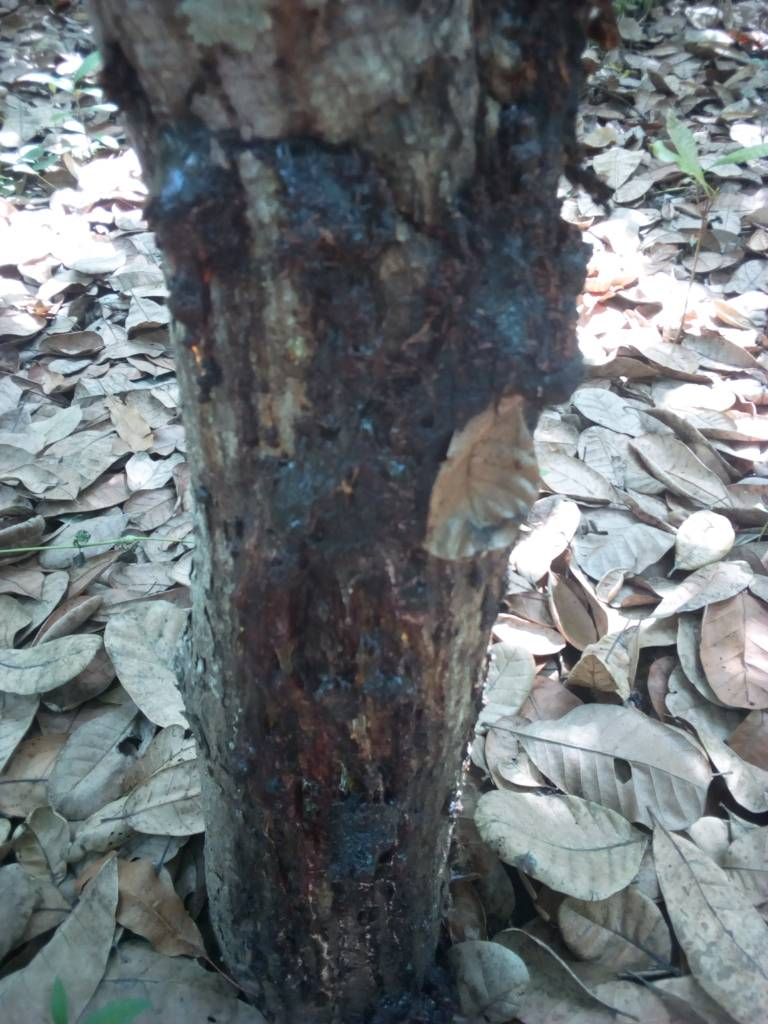Gommose: (168, 144, 604, 402), (241, 430, 433, 999)
